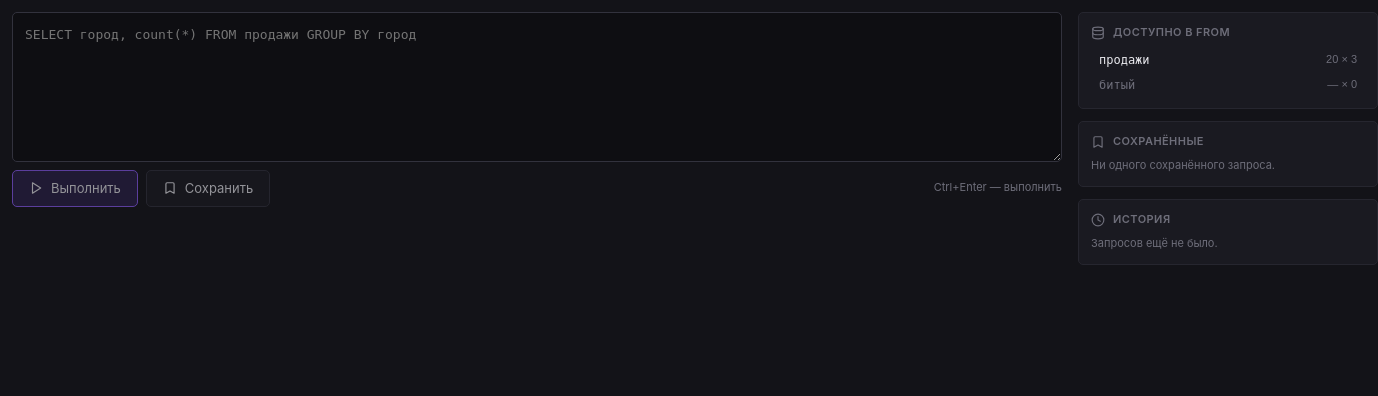
Test case: окно SQL › усечение результата названо прямо
In the text box named "Текст SQL-запроса": (537, 87) [12, 12, 1062, 162], type "SELECT 1 FROM продажи"
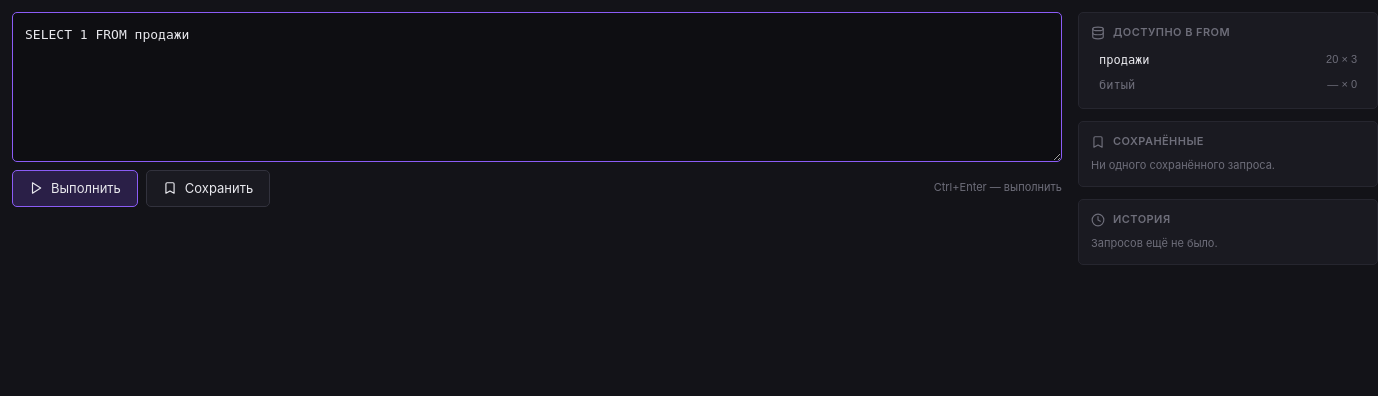
Click the button "Выполнить": (75, 188) [12, 170, 138, 207]
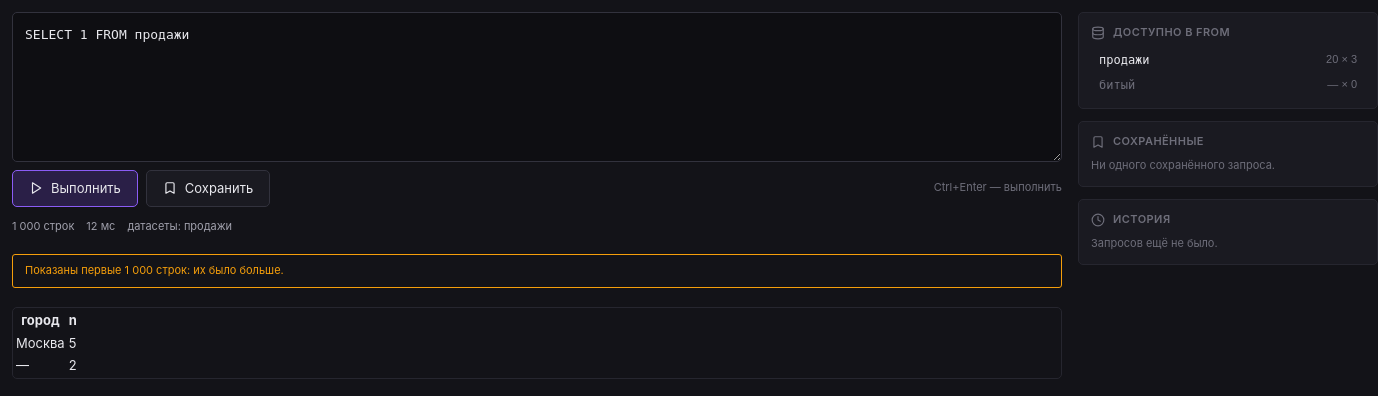
Expected: the text "Показаны первые 1 000 строк: их было больше." is shown, [12, 254, 1062, 288]
